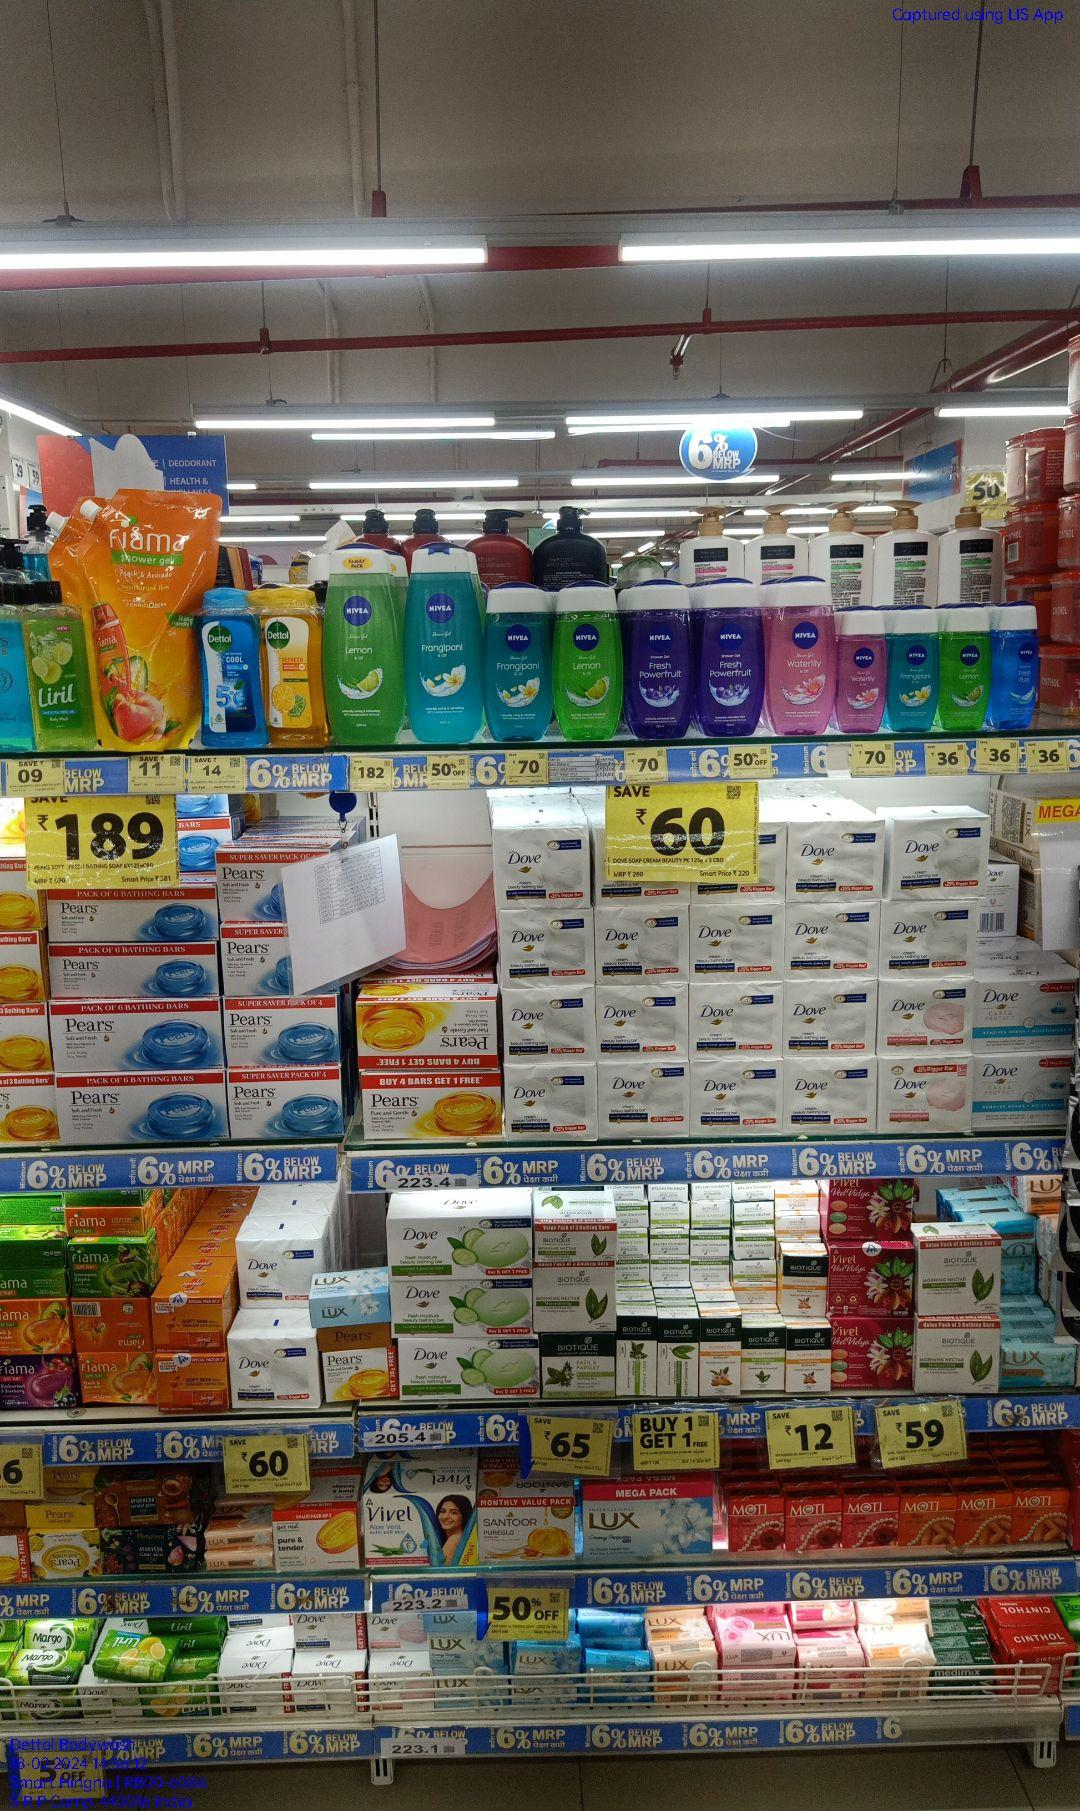Dettol_Bodywash_Cool: (195, 590, 266, 748)
Dettol_Bodywash_Refresh: (267, 585, 325, 748)
Liril_Lime_and_Tea_Tree_Oil_Body_Wash_250ML: (28, 578, 93, 751)
Nivea_Shower_Gel_Frangipani_and_Oil_250ML: (891, 604, 936, 730)
Nivea_Shower_Gel_Lemon_and_Oil_250ML: (937, 604, 989, 735)
Nivea_Shower_Gel_Waterlily_and_Oil_250ML: (837, 611, 887, 733)
